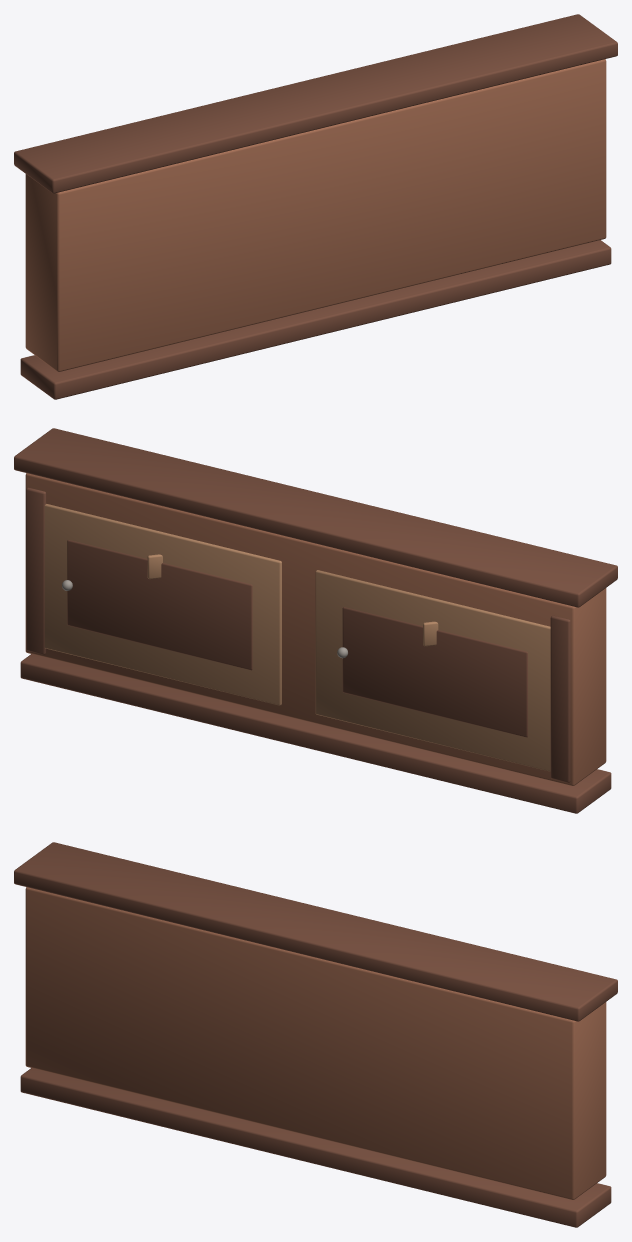
The model's file is carved-cabinet.glb.
3 renders of one model, top to bottom at view 1: azimuth 30°, elevation 25°; view 2: azimuth 150°, elevation 25°; view 3: azimuth 330°, elevation 25°, orthographic.
Parts seen in each view (by area): view 1: carcass, merged_wood_dark; view 2: merged_wood_dark, merged_wood_worn, carcass; view 3: carcass, merged_wood_dark.
Boxes of the visible parts, x1,y1,x2,y2 form: carcass: [25, 59, 606, 371]; merged_wood_dark: [14, 14, 617, 399]; merged_wood_dark: [14, 428, 617, 813]; merged_wood_worn: [44, 504, 550, 771]; carcass: [25, 473, 606, 785]; carcass: [25, 887, 606, 1199]; merged_wood_dark: [14, 842, 617, 1227].
Size of the model in its own units: 4.11 by 1.55 by 0.555.
